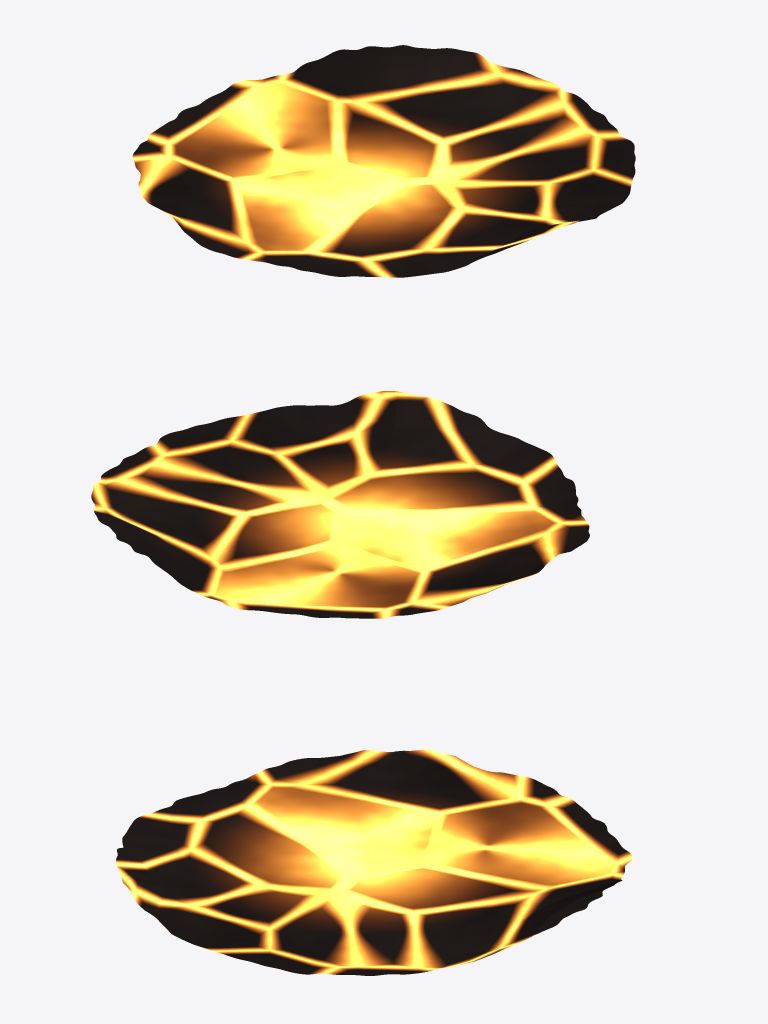
The model's file is lava_pool_a.glb.
3 views of the same model, one above another, from view 1: azimuth 30°, elevation 25°; view 2: azimuth 150°, elevation 25°; view 3: azimuth 270°, elevation 25° (orthographic). The views are drawn at different scales.
Visible parts, largest first — view 1: geometry_0; view 2: geometry_0; view 3: geometry_0.
Boxes of the visible parts, x1,y1,x2,y2 form: geometry_0: (132, 45, 635, 277); geometry_0: (91, 391, 589, 618); geometry_0: (116, 749, 632, 975).
Size of the model in its own units: 2.19 by 0.09 by 2.14.
Materials: 1 (1 with a texture image).
